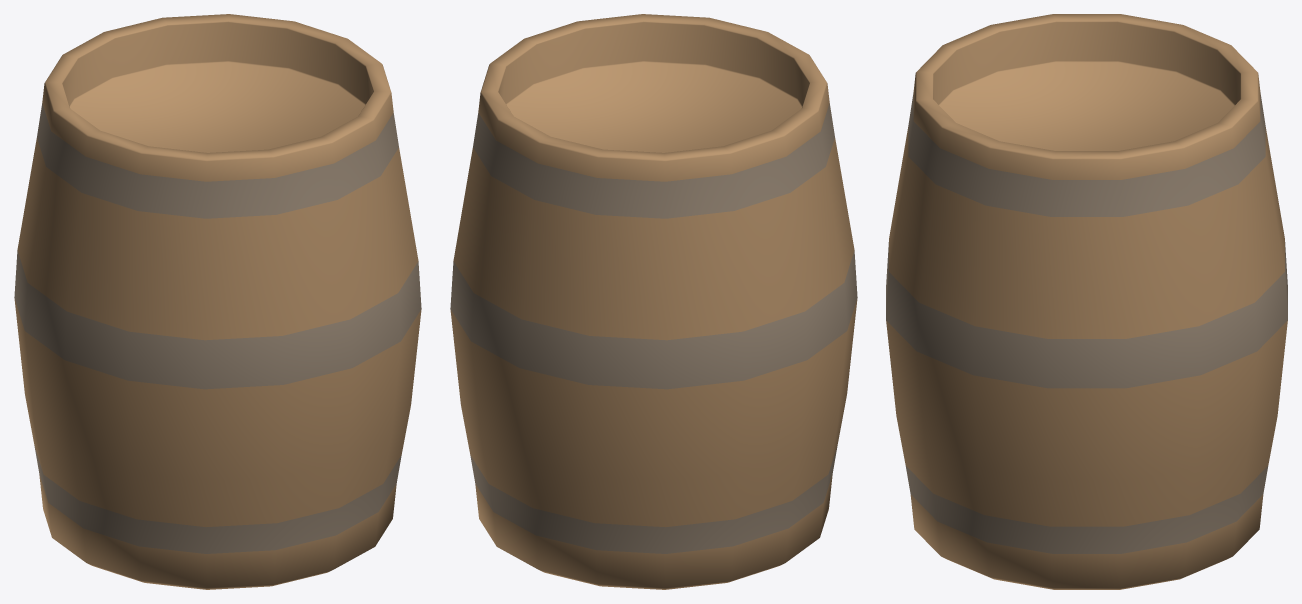
File: Mesh_Baril_01.fbx
3 views of the same model, side by side, from view 1: azimuth 30°, elevation 25°; view 2: azimuth 150°, elevation 25°; view 3: azimuth 270°, elevation 25° (orthographic).
Visible parts, largest first — view 1: Mesh_Baril_01; view 2: Mesh_Baril_01; view 3: Mesh_Baril_01.
Boxes of the visible parts, bbox=[...] form: Mesh_Baril_01: bbox=[14, 14, 421, 589]; Mesh_Baril_01: bbox=[450, 14, 857, 589]; Mesh_Baril_01: bbox=[886, 14, 1287, 589].
Bounding box in the file's own units: 53.9 × 64.35 × 53.9.
